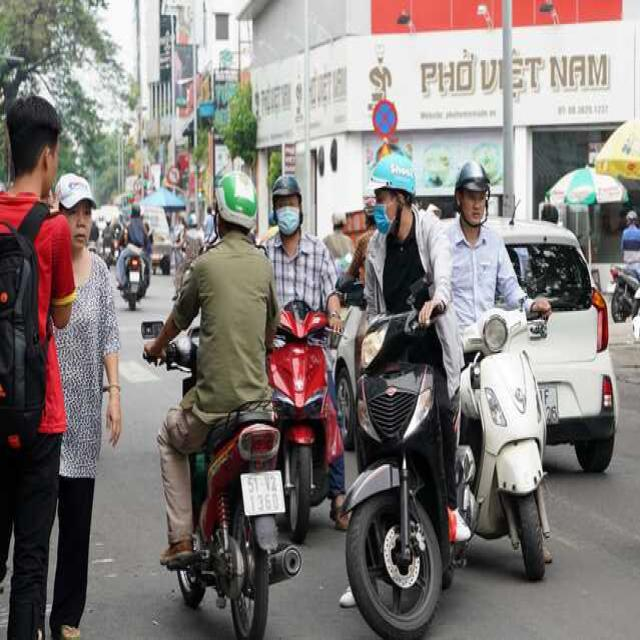helmet: (214, 169, 260, 231)
no_helmet: (1, 85, 67, 205)
